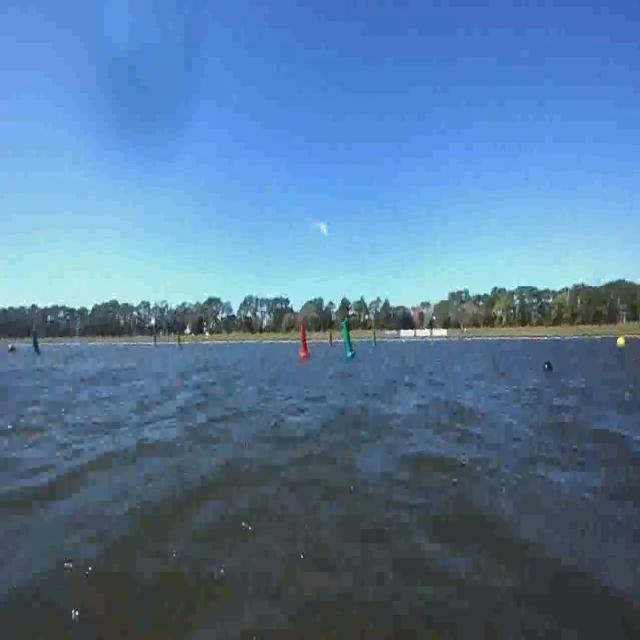black-buoy: (542, 354, 553, 372)
green-column-buoy: (342, 320, 358, 359), (30, 323, 41, 355), (372, 331, 378, 348)
red-column-buoy: (298, 323, 312, 358), (328, 329, 334, 346)
yellow-buoy: (617, 336, 627, 350)
